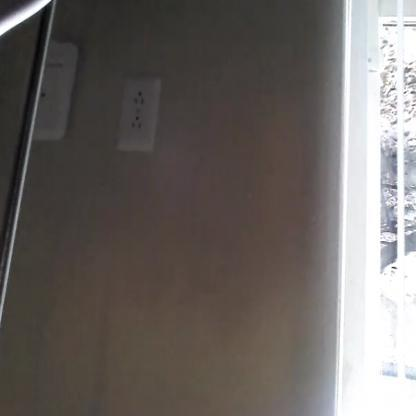OUTLET: (114, 74, 162, 152)
